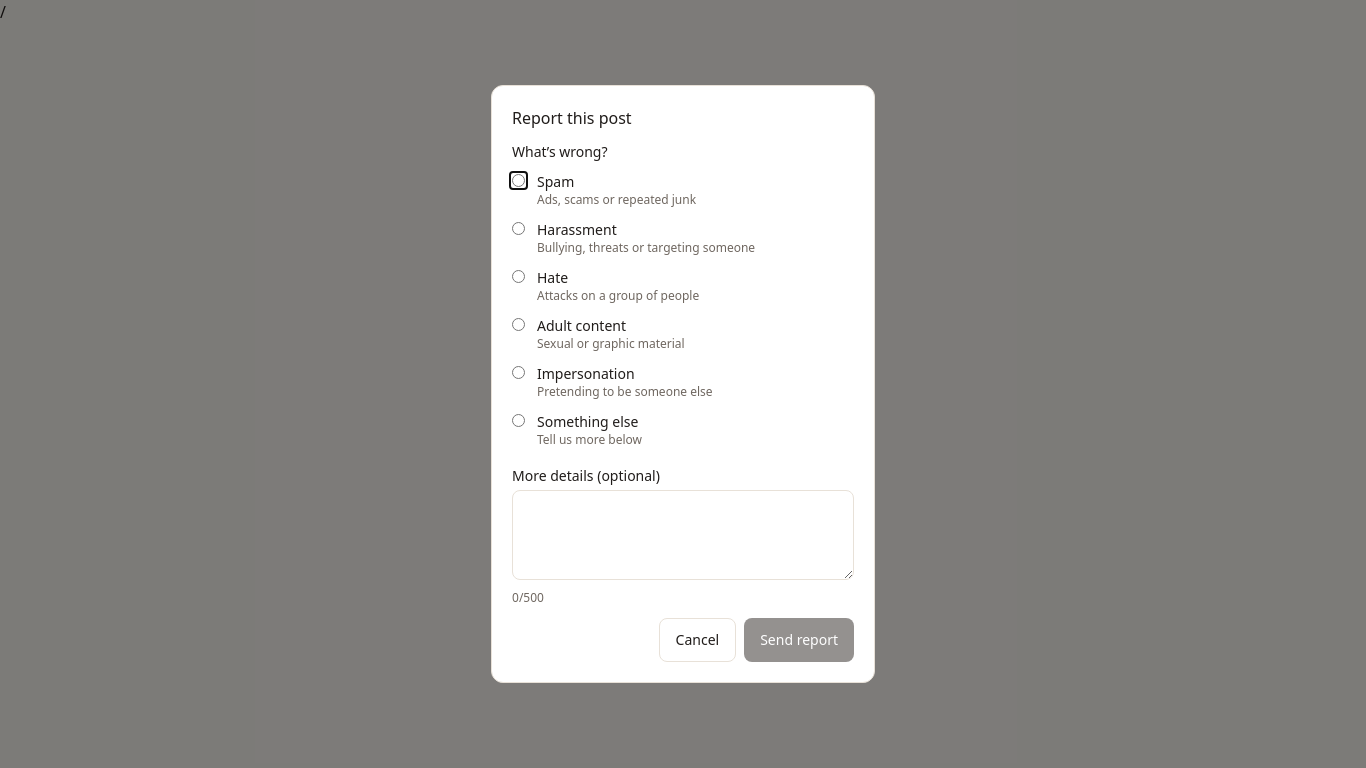
Test: ReportDialog › needs a reason before it can be sent
expect the button "Send report" is disabled: met, box x1=744 y1=618 x2=854 y2=662
Click the radio button labelled "Spam Ads, scams or repeated junk".
click(518, 180)  # box x1=512 y1=174 x2=525 y2=187
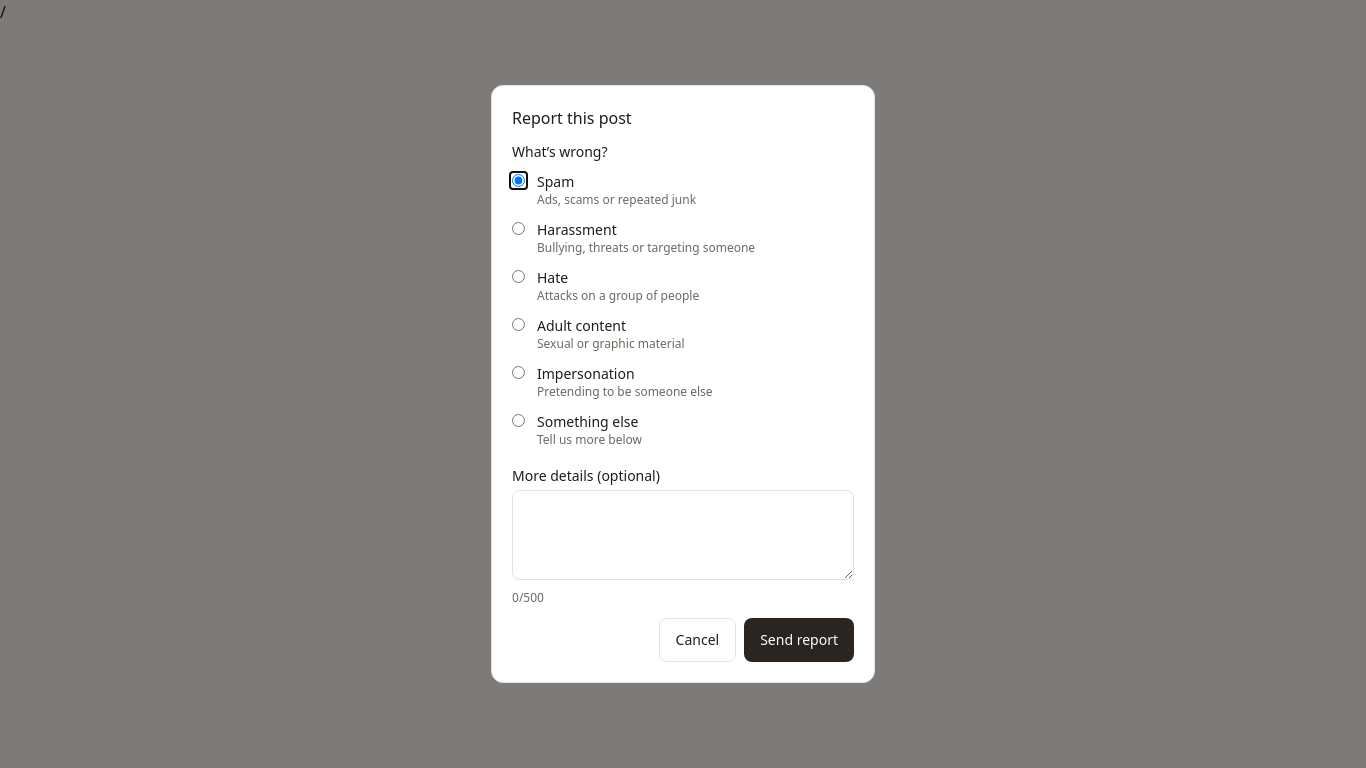
expect the button "Send report" is enabled: met, box x1=744 y1=618 x2=854 y2=662
